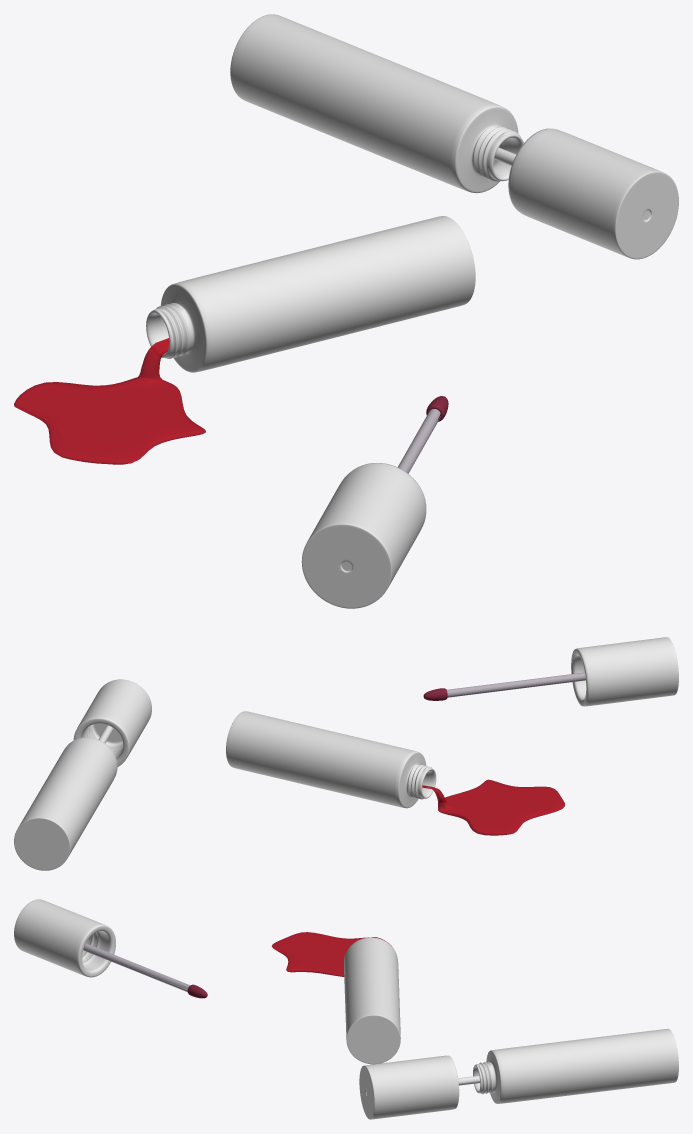
The model's file is lipstic.fbx.
3 renders of one model, top to bottom at view 1: azimuth 30°, elevation 25°; view 2: azimuth 150°, elevation 25°; view 3: azimuth 270°, elevation 25°, orthographic. The views are drawn at different scales.
Visible parts, largest first — view 1: Plane, Plane.009, Plane.010, Plane.003, Cube; view 2: Plane, Plane.009, Plane.003, Cube, Plane.010; view 3: Plane.009, Plane, Plane.003, Plane.010, Cube.
Part boxes in pixels (left/top/right/bottom): Plane: left=146, top=216, right=475, bottom=372; Plane.009: left=230, top=14, right=523, bottom=193; Plane.010: left=494, top=128, right=678, bottom=259; Plane.003: left=301, top=409, right=440, bottom=608; Cube: left=14, top=338, right=205, bottom=464; Plane: left=226, top=711, right=436, bottom=808; Plane.009: left=14, top=737, right=117, bottom=870; Plane.003: left=447, top=637, right=678, bottom=706; Cube: left=422, top=779, right=564, bottom=835; Plane.010: left=73, top=679, right=151, bottom=766; Plane.009: left=473, top=1028, right=678, bottom=1103; Plane: left=344, top=937, right=400, bottom=1064; Plane.003: left=14, top=899, right=189, bottom=991; Plane.010: left=359, top=1055, right=480, bottom=1119; Cube: left=271, top=932, right=391, bottom=976.
Size of the model in its own units: 398 by 49.33 by 569.
